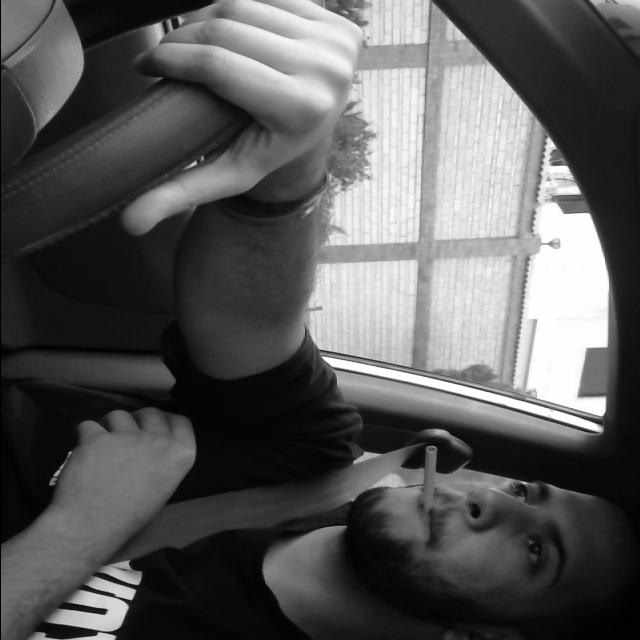smoking: (404, 438, 440, 514)
